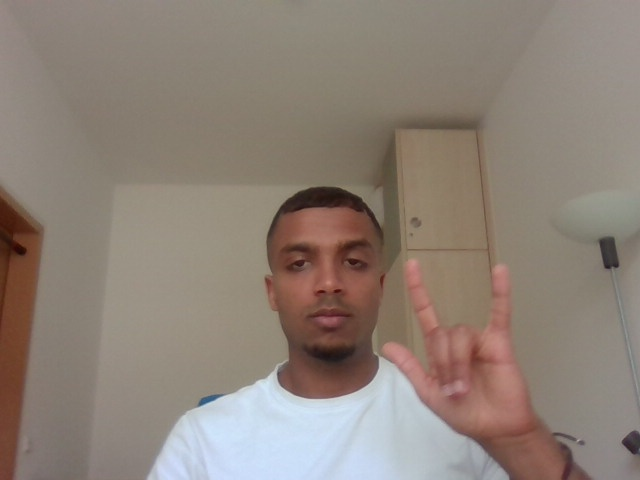absolutely: (380, 253, 557, 452)
